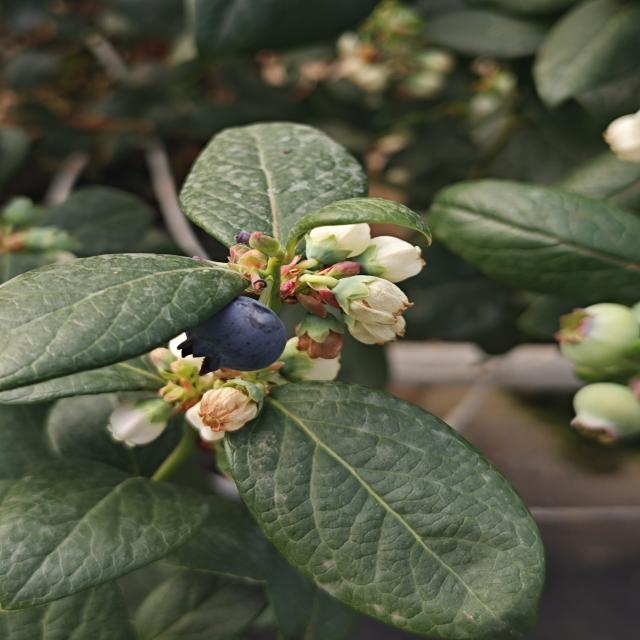ripe: (175, 294, 290, 378)
